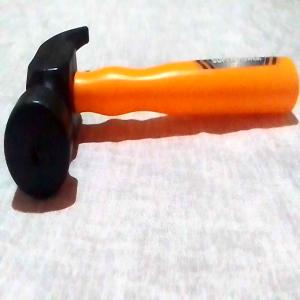martelo: (4, 25, 300, 203)
